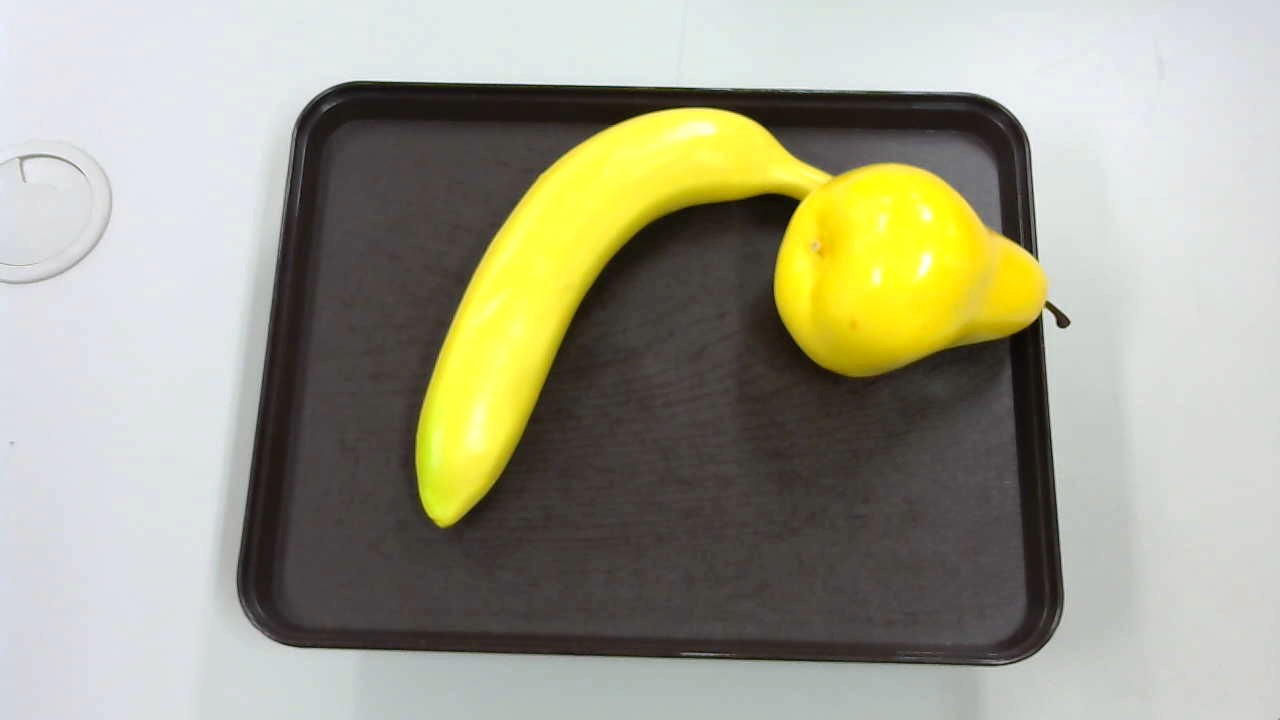banana: (407, 104, 842, 528)
yellow pear: (775, 165, 1070, 374)
